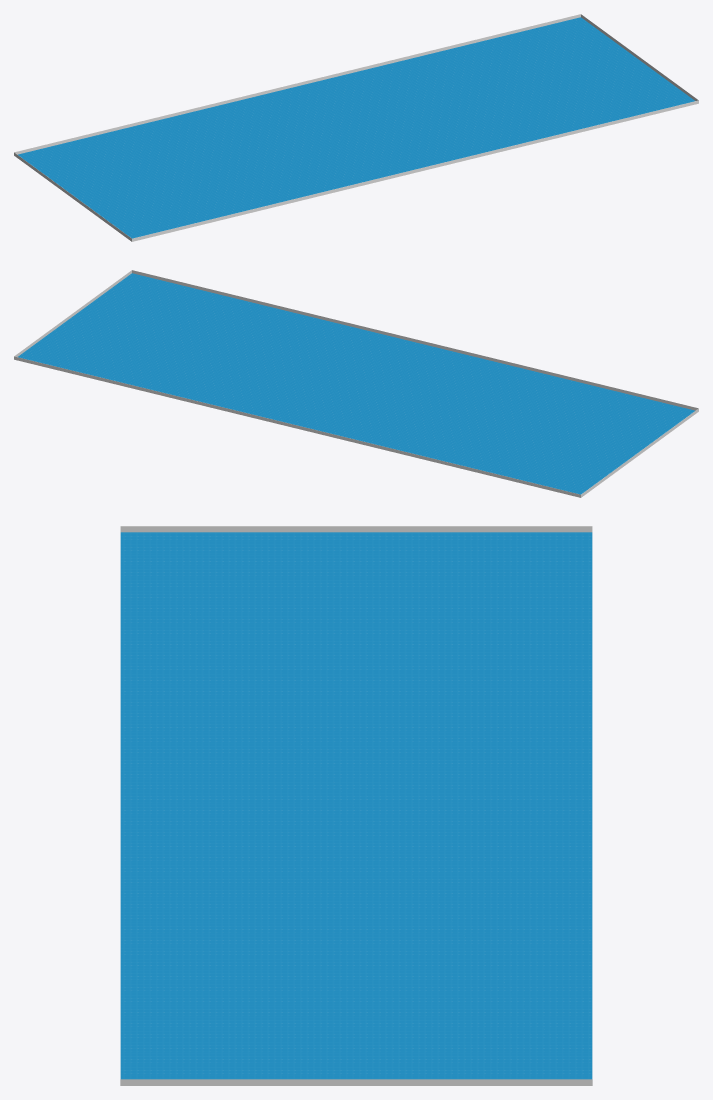
The model's file is WalkerCourt.fbx.
3 views of the same model, one above another, from view 1: azimuth 30°, elevation 25°; view 2: azimuth 150°, elevation 25°; view 3: azimuth 270°, elevation 25° (orthographic). The views are drawn at different scales.
Visible parts, largest first — view 1: Floor, WallsOuter; view 2: Floor, WallsOuter; view 3: Floor, WallsOuter.
Boxes of the visible parts, x1,y1,x2,y2 form: Floor: (18, 17, 694, 238); WallsOuter: (14, 14, 698, 241); Floor: (18, 273, 694, 494); WallsOuter: (14, 270, 698, 497); Floor: (120, 532, 592, 1079); WallsOuter: (120, 526, 592, 1085).
Size of the model in its own units: 2000 by 11 by 721.
Materials: 2 (1 with a texture image).
